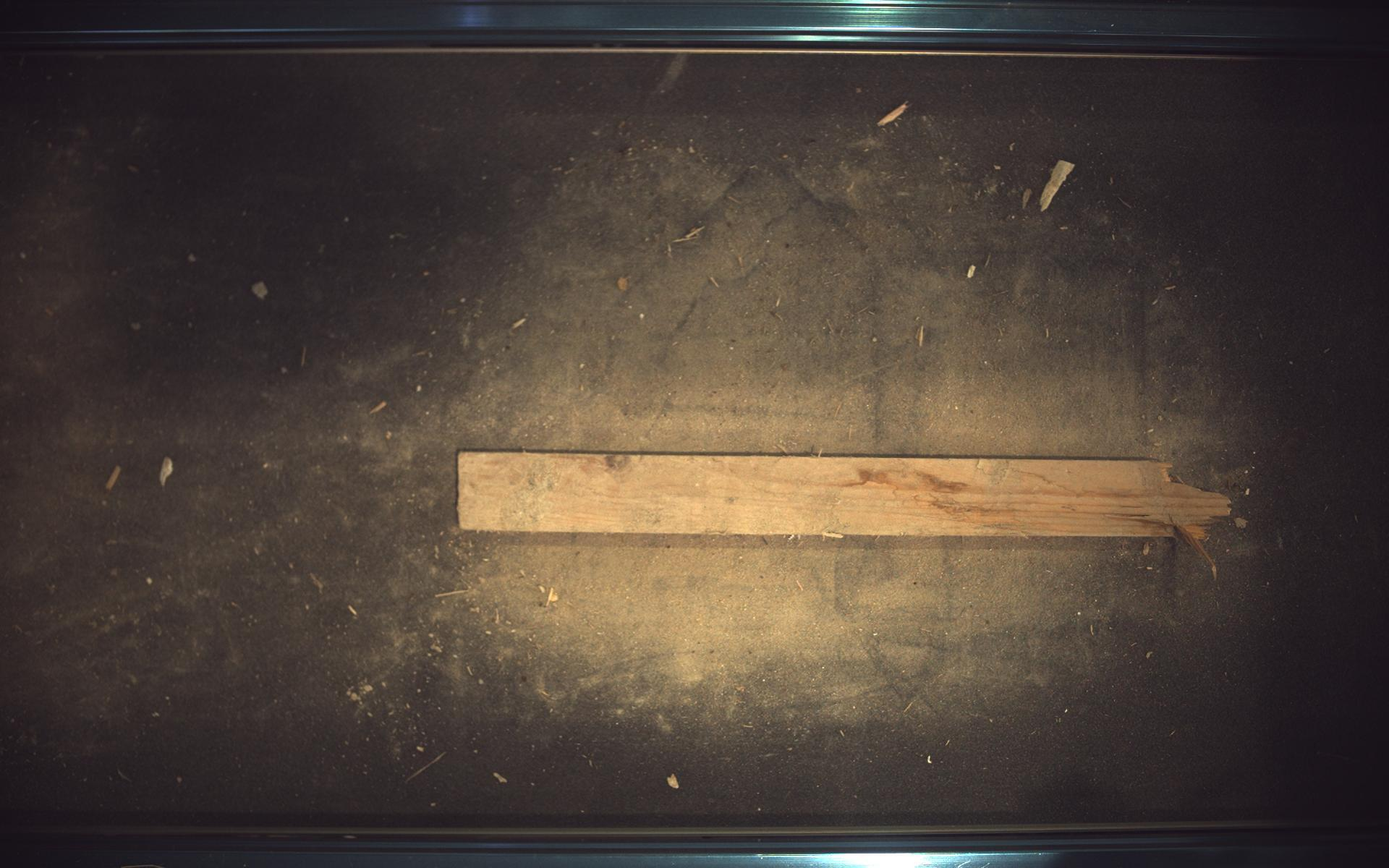wood: (458, 452, 1232, 573)
